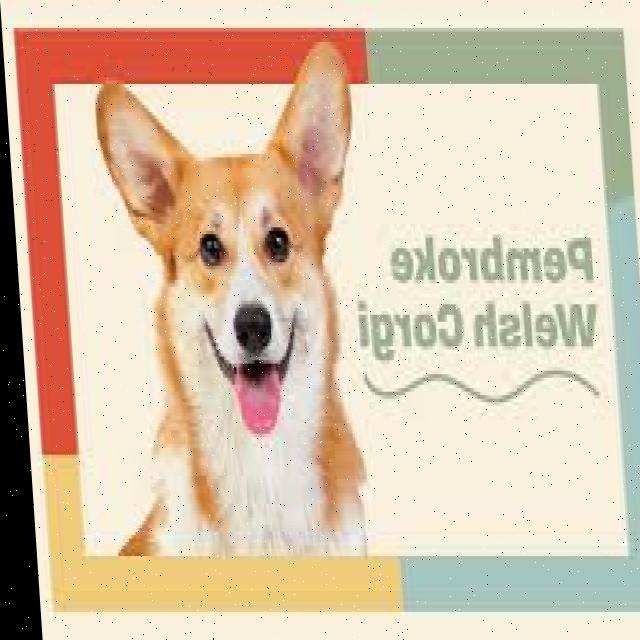CORGI: (73, 26, 387, 574)
